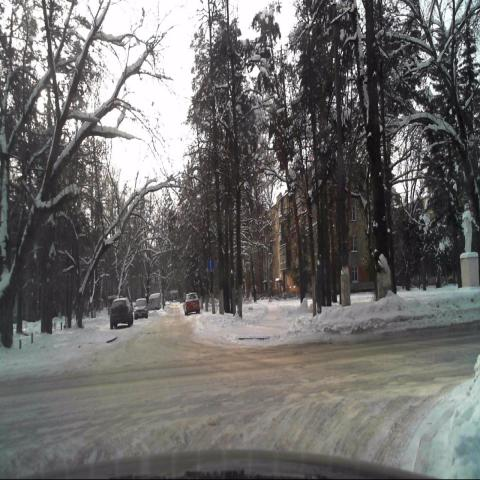4_1_1: (206, 256, 214, 270)
